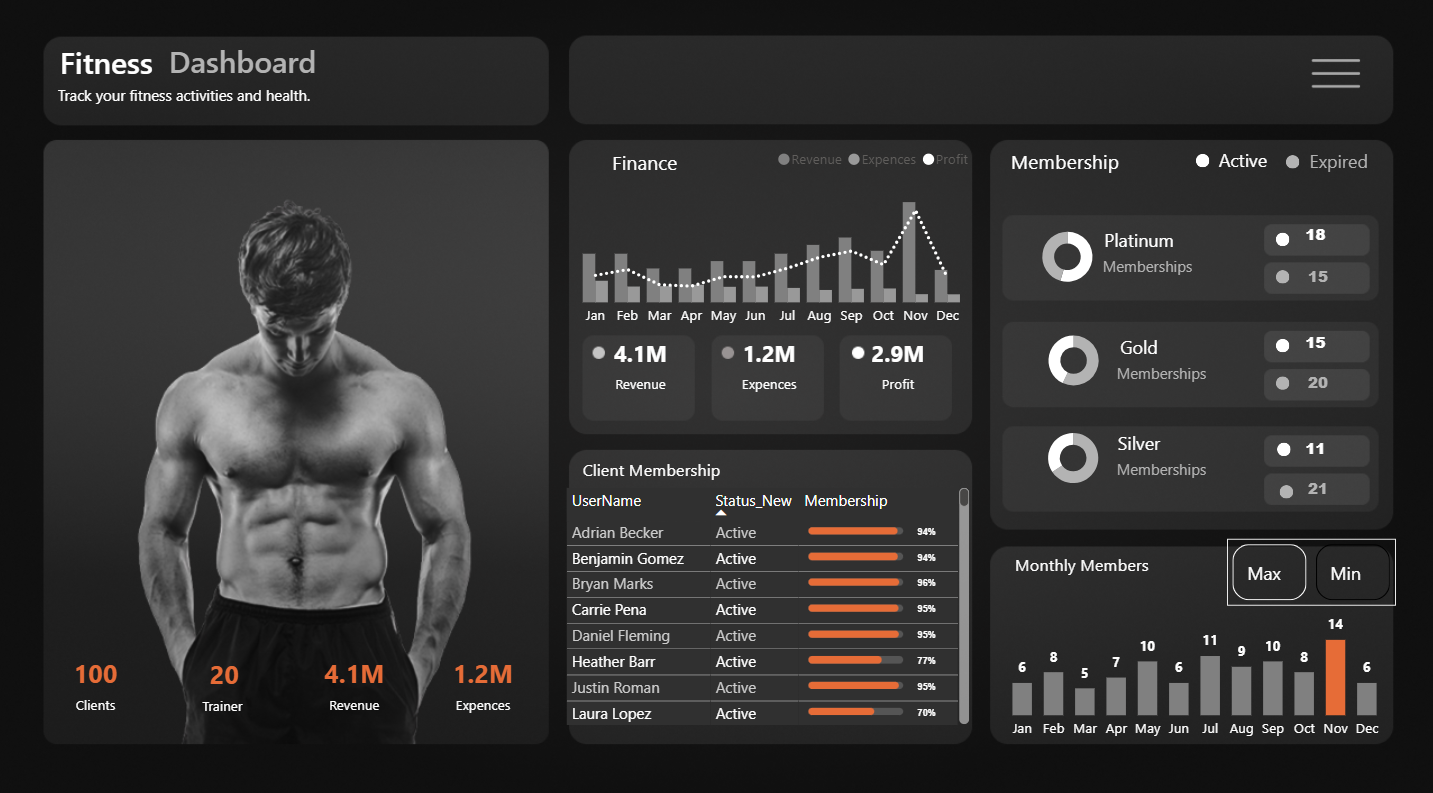

What the dashboard file says about the page in this screenshot:
{"tool":"powerbi","page":{"name":"Page 1","canvas":[1280,720],"ordinal":0},"visuals":[{"type":"card","fields":{"Values":["_Measures.Users_Count"]},"box":[16.5,577.7,142.7,80],"z":0},{"type":"card","fields":{"Values":["Count(Users.Trainer Name)"]},"box":[131.7,579.1,142.7,80],"z":1000},{"type":"card","fields":{"Values":["_Measures.Revenue"]},"box":[247,577.7,142.7,80],"z":2000},{"type":"card","fields":{"Values":["_Measures.Expences"]},"box":[362.3,577.7,142.7,80],"z":3000},{"type":"card","fields":{"Values":["_Measures.Revenue"]},"box":[501.8,293.5,142.7,80],"z":4000},{"type":"card","fields":{"Values":["_Measures.Expences"]},"box":[616.6,293.5,142.7,80],"z":5000},{"type":"card","fields":{"Values":["_Measures.Profit"]},"box":[731.4,293.7,142.7,79.6],"z":6000},{"type":"lineClusteredColumnComboChart","fields":{"Category":["Calendar.Month"],"Y":["_Measures.Revenue","_Measures.Expences"],"Y2":["_Measures.Profit"]},"box":[505,131.7,369.1,177],"z":7000},{"type":"shape","box":[510,131.4,134.3,42.9],"z":8000},{"type":"clusteredColumnChart","fields":{"Y":["_Measures.Users_Count"],"Category":["Calendar.Month"]},"box":[888.6,530,357.1,145],"z":9000},{"type":"shape","box":[888.6,488.6,155.7,45.7],"z":10000},{"type":"advancedSlicerVisual","fields":{"Values":["Min_Max_Switch.Type"]},"box":[1095.7,488.6,150,60],"z":11000},{"type":"tableEx","fields":{"Values":["Users.UserName","Users.Status_New","Measure.SVG_BarChart1"]},"box":[501.4,438.6,370,220],"z":12000},{"type":"shape","box":[505,403.4,155.1,46.7],"z":13000},{"type":"shape","box":[940,193.5,155.1,56.3],"z":14000},{"type":"shape","box":[940,293.7,155.1,46.7],"z":15000},{"type":"shape","box":[940,380.1,155.1,46.7],"z":16000},{"type":"shape","box":[953.7,220.9,141.3,49.4],"z":17000},{"type":"shape","box":[959.2,317,155.1,46.7],"z":18000},{"type":"shape","box":[959.2,403.4,155.1,46.7],"z":19000},{"type":"donutChart","fields":{"Y":["Measure.User_Silver"],"Category":["Users.Status"]},"box":[919.4,384.2,78.2,65.9],"z":20000},{"type":"donutChart","fields":{"Y":["Measure.User_Platinum"],"Category":["Users.Status"]},"box":[915.3,204.5,76.8,65.9],"z":21000},{"type":"donutChart","fields":{"Y":["Measure.User_Gold"],"Category":["Users.Status"]},"box":[914.6,297.8,87.8,65.9],"z":22000},{"type":"card","fields":{"Values":["Measure.Platinum_Active"]},"box":[1123.8,204.5,100.2,31.6],"z":23000},{"type":"card","fields":{"Values":["Measure.Platinum_Expired"]},"box":[1126.6,241.5,100.2,31.6],"z":24000},{"type":"card","fields":{"Values":["Measure.Gold_Expired"]},"box":[1126.6,336.2,100.2,31.6],"z":25000},{"type":"card","fields":{"Values":["Measure.Gold_Active"]},"box":[1124.4,300.5,100.2,31.6],"z":26000},{"type":"card","fields":{"Values":["Measure.Silver_Expired"]},"box":[1126.6,430.9,100.2,31.6],"z":27000},{"type":"card","fields":{"Values":["Measure.Silver_Active"]},"box":[1124.7,395.2,100.2,31.6],"z":28000},{"type":"shape","box":[883.7,130.4,134.5,42.5],"z":29000},{"type":"shape","box":[1138.9,215.4,12.3,12.3],"z":30000},{"type":"shape","box":[1138.9,249.7,12.3,12.3],"z":31000},{"type":"shape","box":[1138.9,310.1,12.3,12.3],"z":32000},{"type":"shape","box":[1138.9,344.4,12.3,12.3],"z":33000},{"type":"shape","box":[1140.3,403.4,12.3,12.3],"z":34000},{"type":"shape","box":[1141.7,440.5,12.3,12.3],"z":35000},{"type":"shape","box":[1067.6,145.5,12.3,12.3],"z":36000},{"type":"shape","box":[1147.2,146.8,12.3,12.3],"z":37000},{"type":"shape","box":[1037.4,129,144.1,43.9],"z":38000},{"type":"shape","box":[1123.8,137.2,141.3,28.8],"z":39000},{"type":"shape","box":[22.8,33.5,150,60],"z":40000},{"type":"shape","box":[143.5,32.1,150,60],"z":41000},{"type":"shape","box":[38.4,71.4,255.2,42.5],"z":42000},{"type":"image","box":[1159.5,48,67.2,54.9],"z":43000}]}

Visuals, with their boxes in screenshot pixels (x1, y1, x2, y2), scaled from the page's 1280x720 canvas onto the 1433x793 screenshot:
card - _Measures.Users_Count: 18:636:178:724
card - Count(Users.Trainer Name): 147:638:307:726
card - _Measures.Revenue: 277:636:436:724
card - _Measures.Expences: 406:636:565:724
card - _Measures.Revenue: 562:323:722:411
card - _Measures.Expences: 690:323:850:411
card - _Measures.Profit: 819:323:979:411
lineClusteredColumnComboChart - Calendar.Month x _Measures.Revenue: 565:145:979:340
shape: 571:145:721:192
clusteredColumnChart - _Measures.Users_Count x Calendar.Month: 995:584:1395:743
shape: 995:538:1169:588
advancedSlicerVisual - Min_Max_Switch.Type: 1227:538:1395:604
tableEx - Users.UserName x Users.Status_New: 561:483:976:725
shape: 565:444:739:496
shape: 1052:213:1226:275
shape: 1052:323:1226:375
shape: 1052:419:1226:470
shape: 1068:243:1226:298
shape: 1074:349:1247:401
shape: 1074:444:1247:496
donutChart - Measure.User_Silver x Users.Status: 1029:423:1117:496
donutChart - Measure.User_Platinum x Users.Status: 1025:225:1111:298
donutChart - Measure.User_Gold x Users.Status: 1024:328:1122:401
card - Measure.Platinum_Active: 1258:225:1370:260
card - Measure.Platinum_Expired: 1261:266:1373:301
card - Measure.Gold_Expired: 1261:370:1373:405
card - Measure.Gold_Active: 1259:331:1371:366
card - Measure.Silver_Expired: 1261:475:1373:509
card - Measure.Silver_Active: 1259:435:1371:470
shape: 989:144:1140:190
shape: 1275:237:1289:251
shape: 1275:275:1289:289
shape: 1275:342:1289:355
shape: 1275:379:1289:393
shape: 1277:444:1290:458
shape: 1278:485:1292:499
shape: 1195:160:1209:174
shape: 1284:162:1298:175
shape: 1161:142:1323:190
shape: 1258:151:1416:183
shape: 26:37:193:103
shape: 161:35:329:101
shape: 43:79:329:125
image: 1298:53:1373:113
